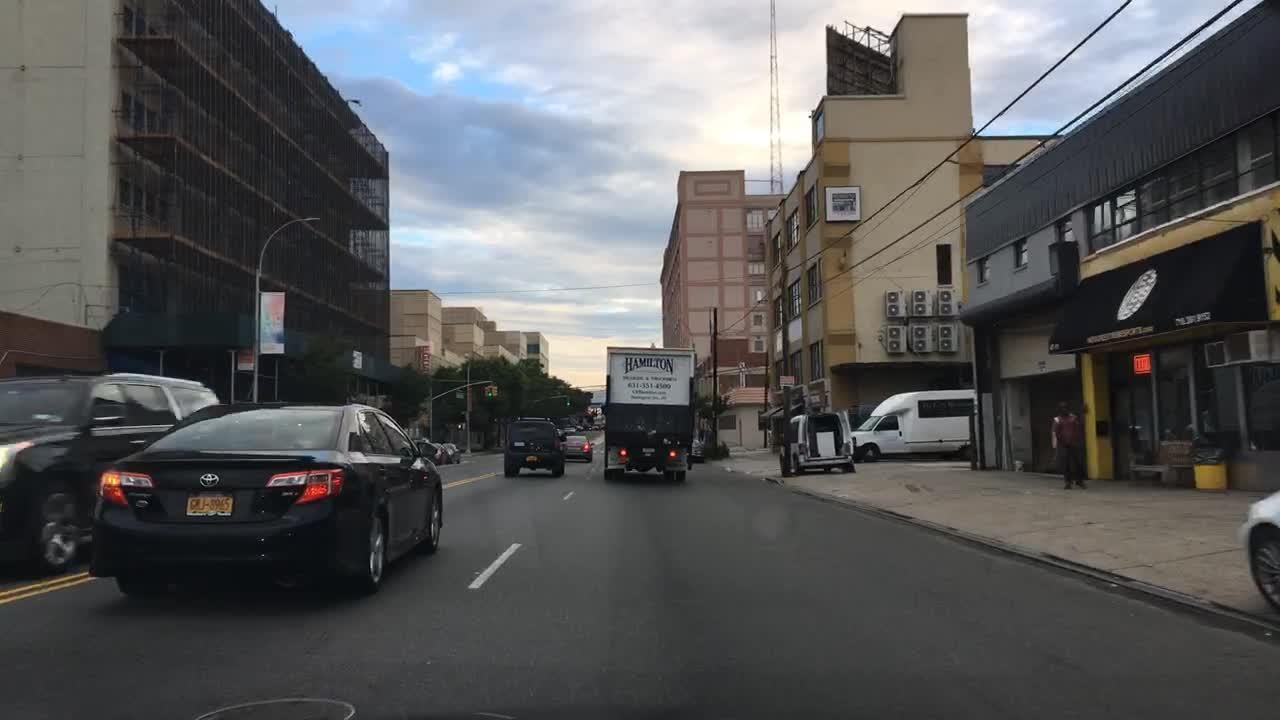Toyota: (194, 466, 227, 491)
